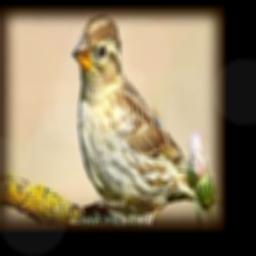Sparrow: (72, 15, 206, 218)
